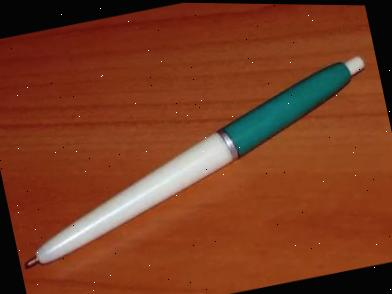pen-pencil: (29, 58, 363, 264)
